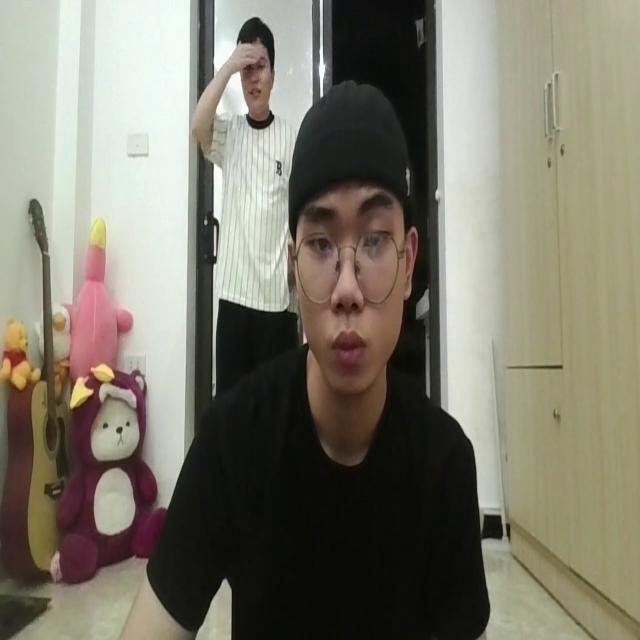extra_person: (175, 22, 292, 370)
student: (174, 86, 488, 640)
